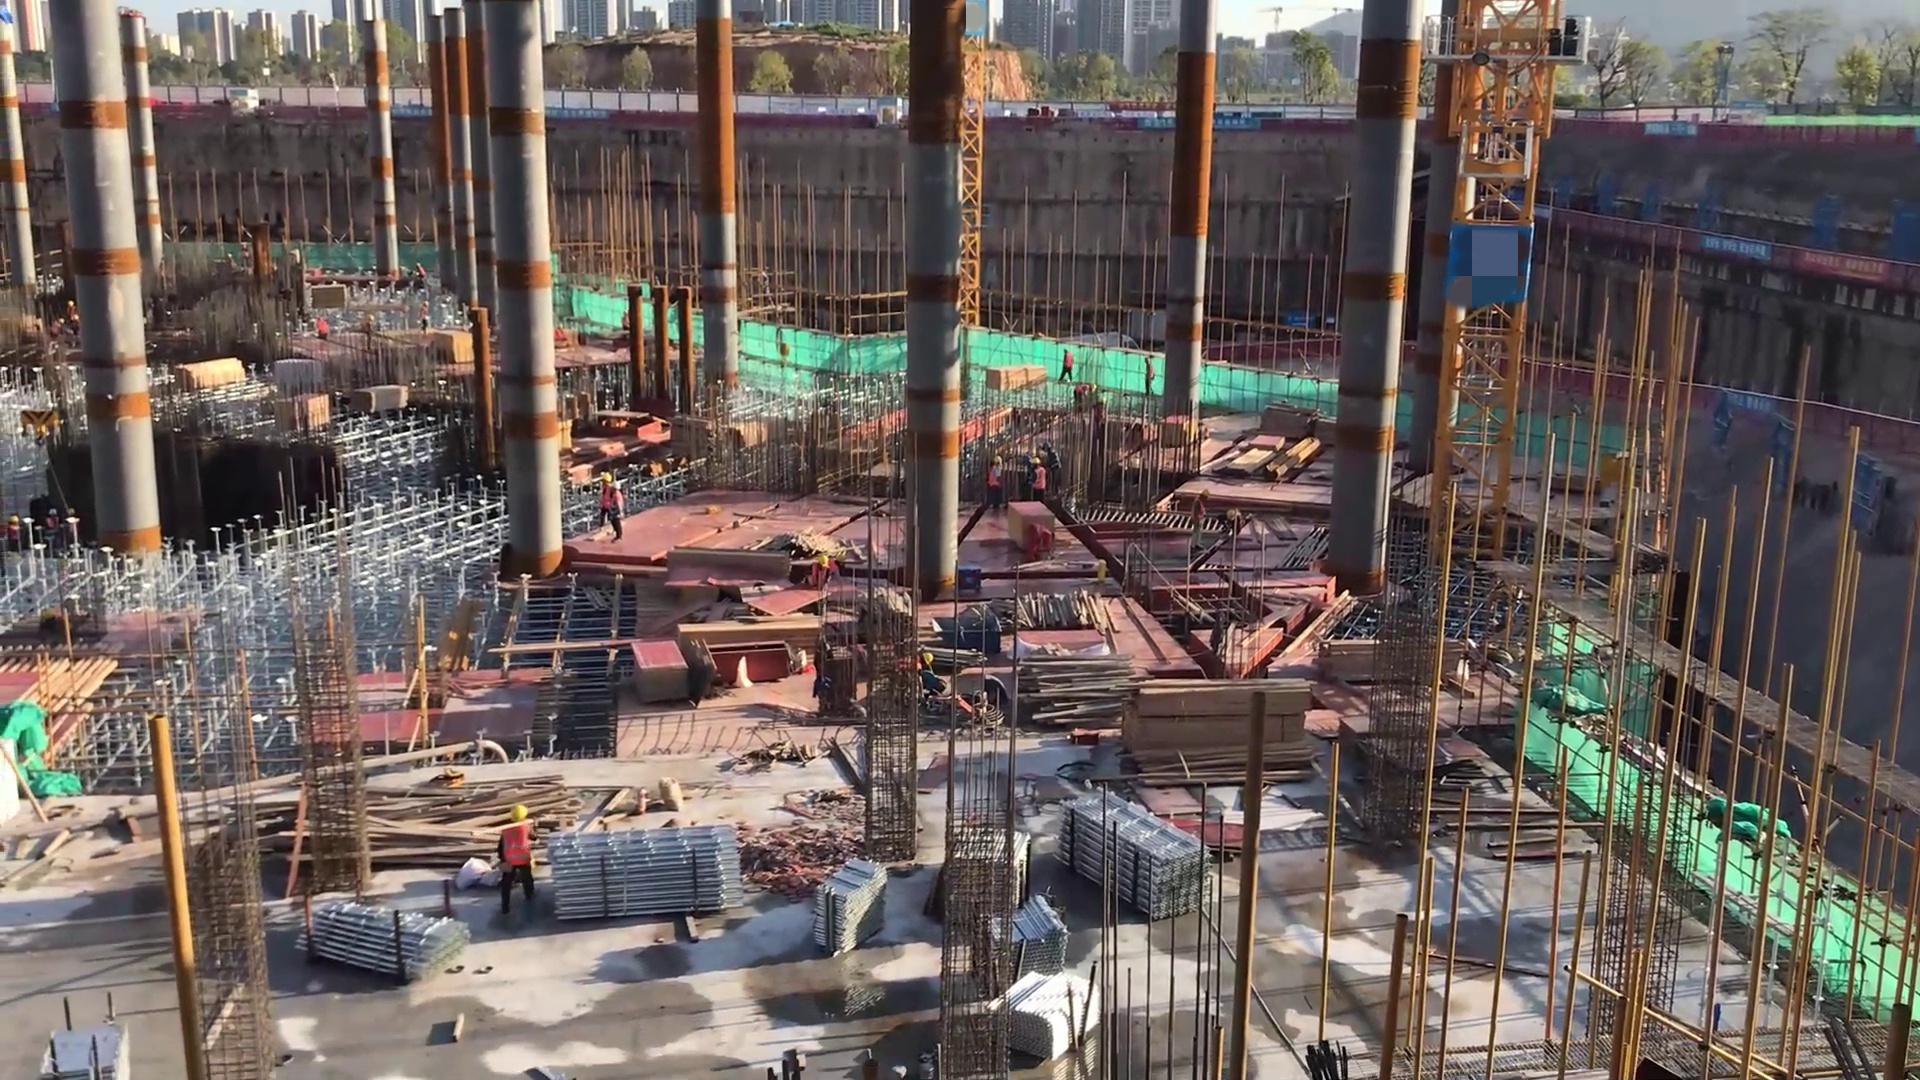board: (630, 635, 694, 709), (1166, 817, 1255, 863), (434, 331, 477, 366)
helmet: (506, 802, 534, 832), (921, 649, 935, 668), (811, 554, 830, 569), (1030, 455, 1044, 471), (1226, 506, 1239, 523), (834, 553, 847, 567), (48, 507, 59, 521), (993, 455, 1003, 469), (601, 474, 614, 484), (611, 483, 622, 493)
hook: (933, 610, 1008, 655)
person: (495, 797, 554, 919), (887, 644, 935, 702), (797, 550, 847, 593), (1020, 455, 1051, 514), (607, 479, 633, 544), (1024, 522, 1062, 569), (985, 448, 1010, 514), (1192, 483, 1213, 554), (806, 549, 832, 603), (1051, 343, 1080, 388), (1, 510, 25, 564), (311, 310, 339, 353), (1139, 352, 1160, 405), (1219, 503, 1248, 541), (596, 472, 614, 530), (45, 505, 61, 559), (618, 306, 642, 342), (418, 296, 434, 343), (68, 298, 80, 336), (415, 257, 427, 286)
scaffold: (1047, 785, 1227, 924), (547, 824, 741, 920), (295, 896, 466, 992), (809, 857, 893, 967), (988, 901, 1072, 1007)
slogan: (1803, 249, 1888, 293), (542, 102, 613, 130), (1134, 115, 1260, 131), (1703, 240, 1773, 263), (1644, 122, 1707, 141), (386, 104, 433, 123)
vest: (498, 825, 536, 873), (810, 563, 832, 594), (608, 492, 624, 522), (986, 465, 1003, 493), (1031, 467, 1048, 494), (1193, 497, 1209, 525)
wood: (1118, 672, 1328, 791), (371, 774, 561, 871), (1011, 650, 1145, 733), (675, 614, 827, 669), (1315, 635, 1477, 686), (168, 352, 256, 400), (983, 356, 1048, 398), (349, 383, 421, 418)
